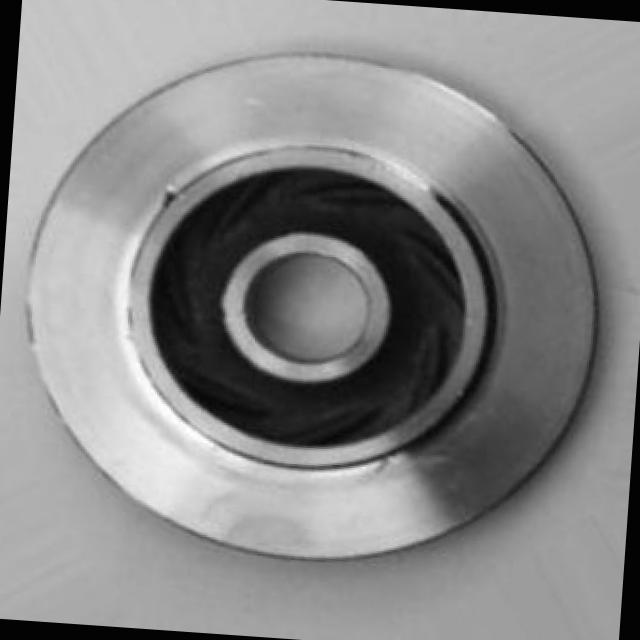Defect: (155, 177, 187, 214)
